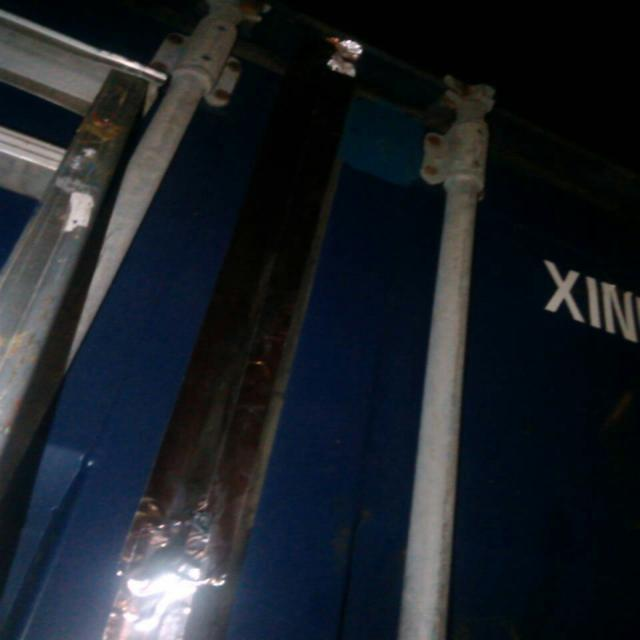rust: (71, 108, 132, 150)
